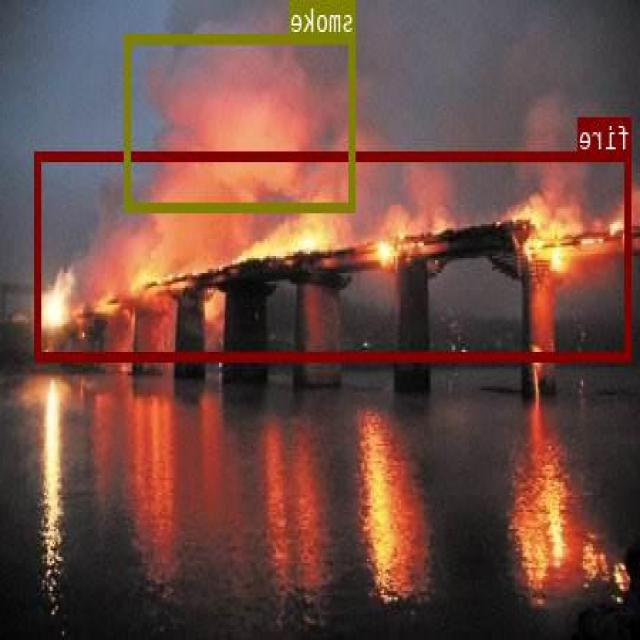fire: (36, 150, 632, 360)
smoke: (126, 34, 356, 209)
